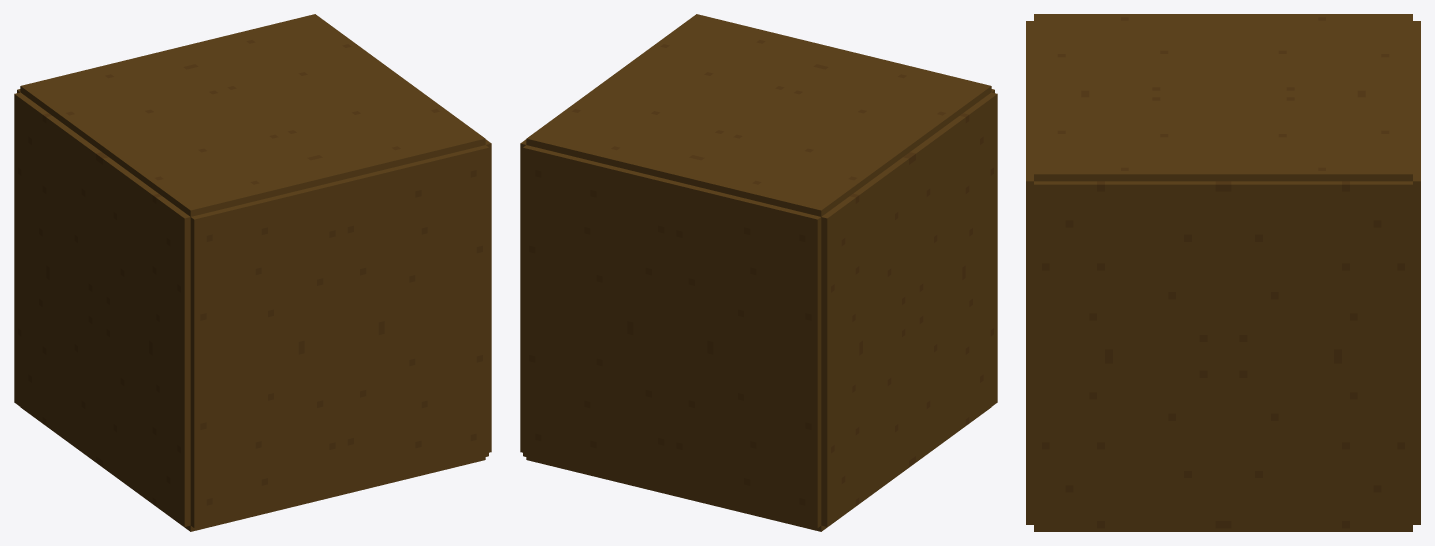
Rendered from DirtCube.obj.
3 renders of one model, left to right at view 1: azimuth 30°, elevation 25°; view 2: azimuth 150°, elevation 25°; view 3: azimuth 270°, elevation 25°, orthographic. The views are drawn at different scales.
Size of the model in its own units: 5 by 5 by 5.
Materials: 1 (1 with a texture image).
